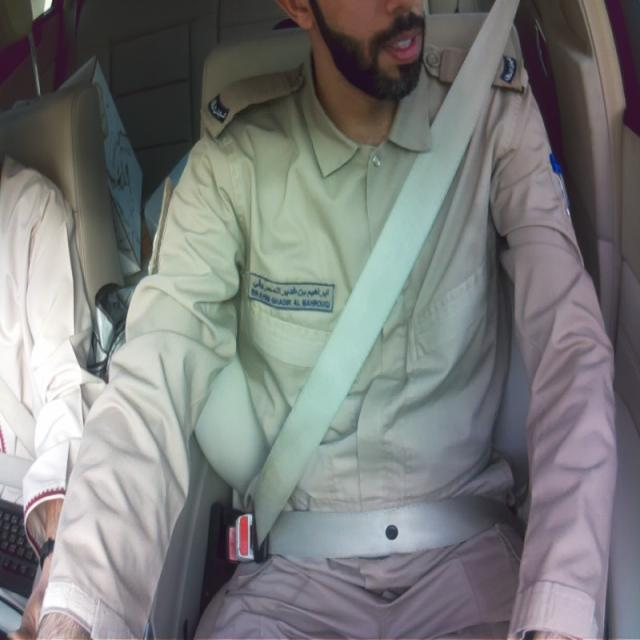seatbelt: (254, 0, 518, 558)
